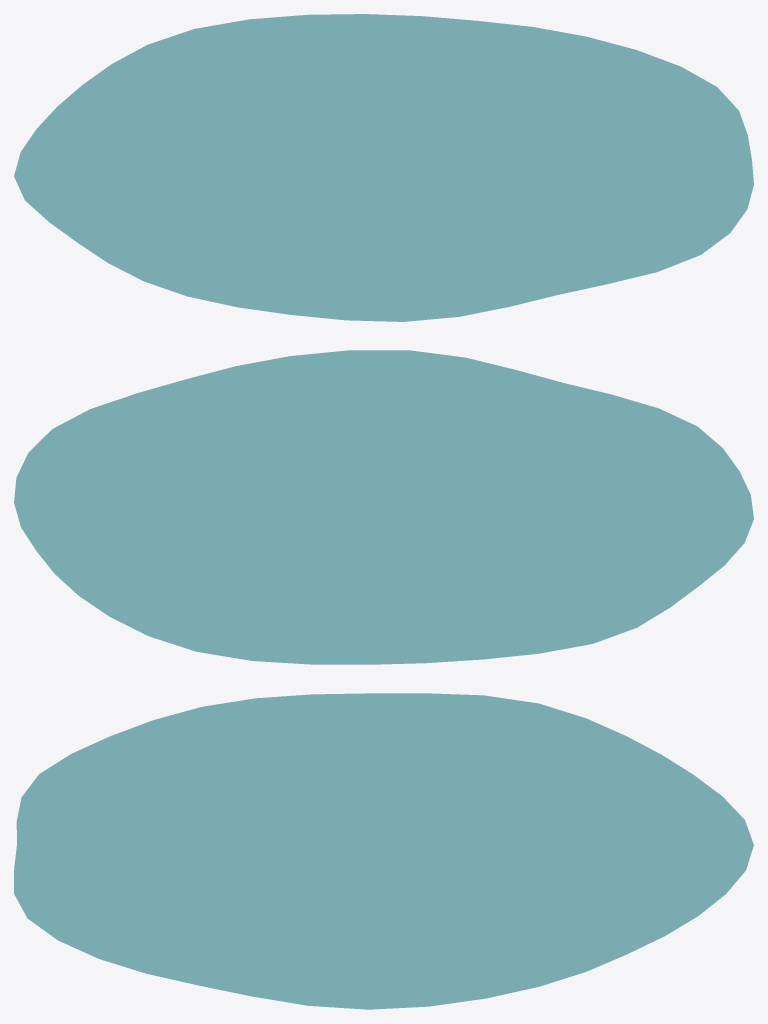
The model's file is oasis.gltf.
3 views of the same model, one above another, from view 1: azimuth 30°, elevation 25°; view 2: azimuth 150°, elevation 25°; view 3: azimuth 270°, elevation 25° (orthographic).
Parts seen in each view (by area): view 1: oasis; view 2: oasis; view 3: oasis.
Boxes of the visible parts, left/top/right/bottom form: oasis: left=14, top=14, right=753, bottom=321; oasis: left=14, top=350, right=753, bottom=664; oasis: left=14, top=693, right=753, bottom=1009.
Bounding box in the file's own units: 10.5 × 0 × 10.38.
